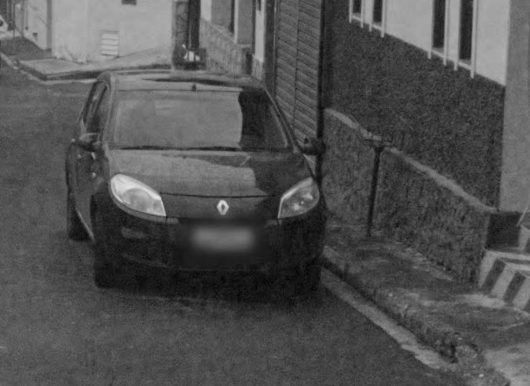car: (60, 60, 333, 291)
